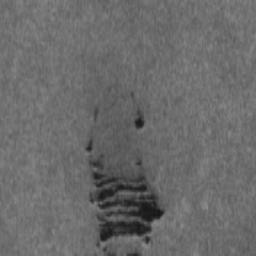Secondary rust skin: (85, 86, 166, 256)
